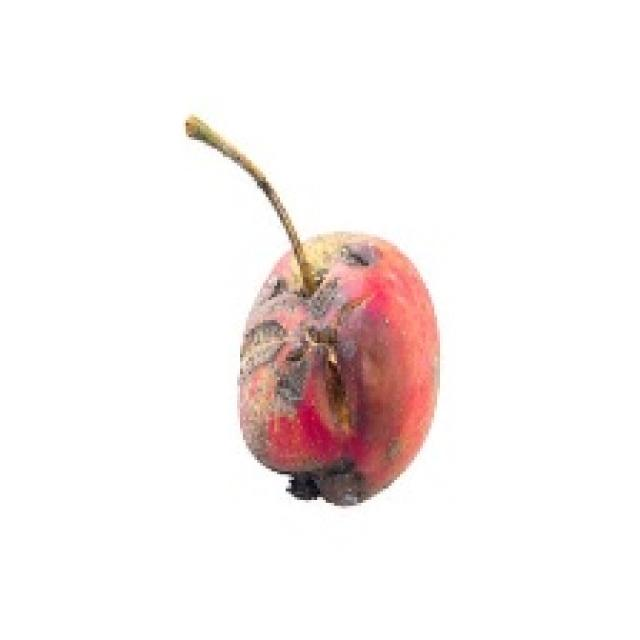rotten_apple: (241, 238, 439, 497)
